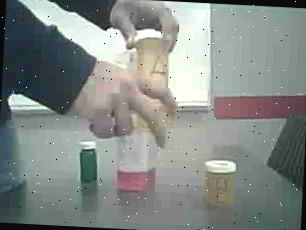Bottle A: (124, 24, 186, 131)
Bottle B: (198, 152, 243, 214)
Bottle C: (73, 138, 104, 184)
hazard: (101, 143, 166, 196)
